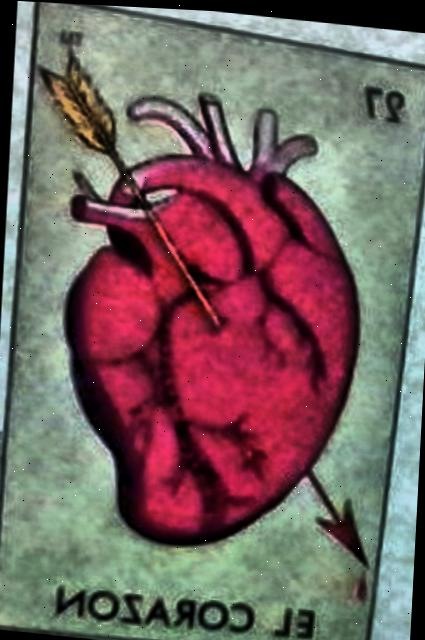El Corazon: (0, 2, 425, 640)
